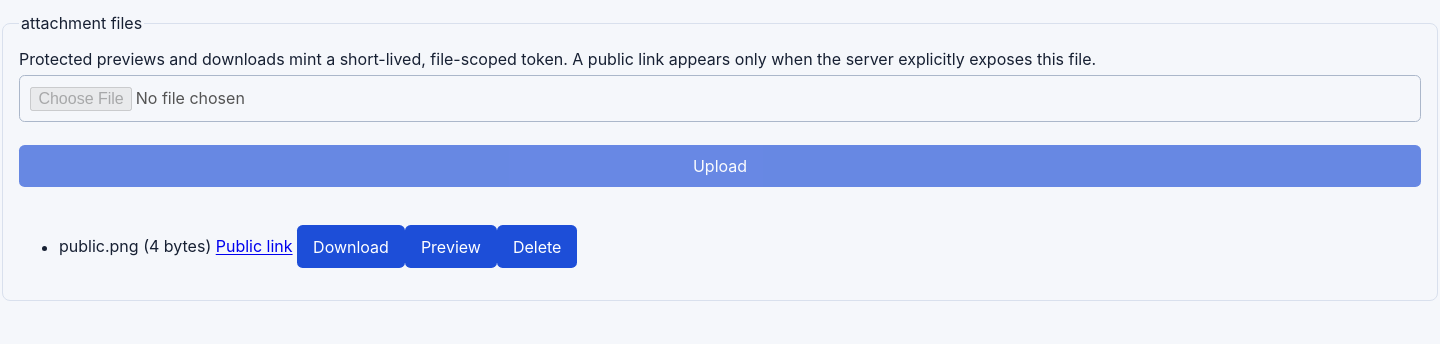
Test: file field › treats failed public downloads and previews as failures before creating object URLs
This screenshot has width=1440, height=344.
Click the button "Download" at (351, 246), box [297,225,405,268]
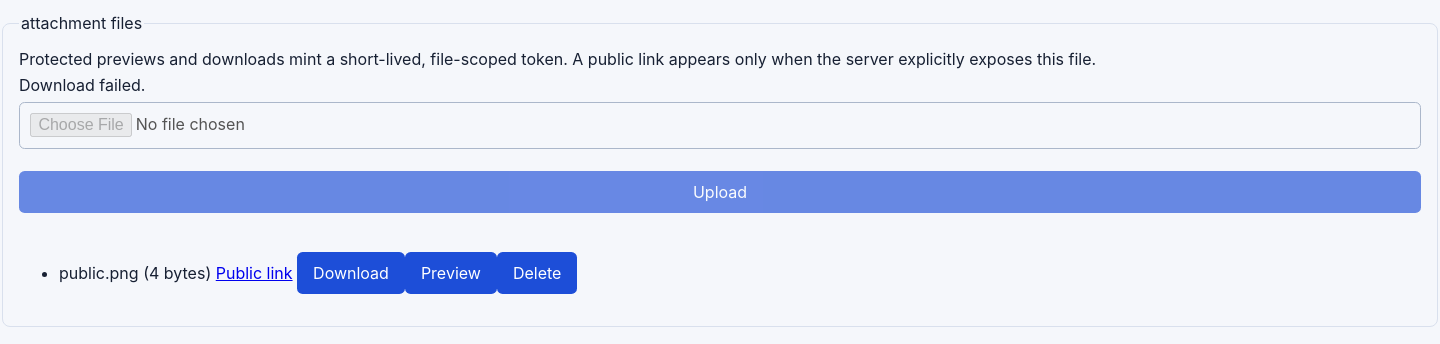
Expected: the message reads "Download failed.", [19,75,146,95]
Click the button "Preview" at (451, 273), box [405,252,497,294]
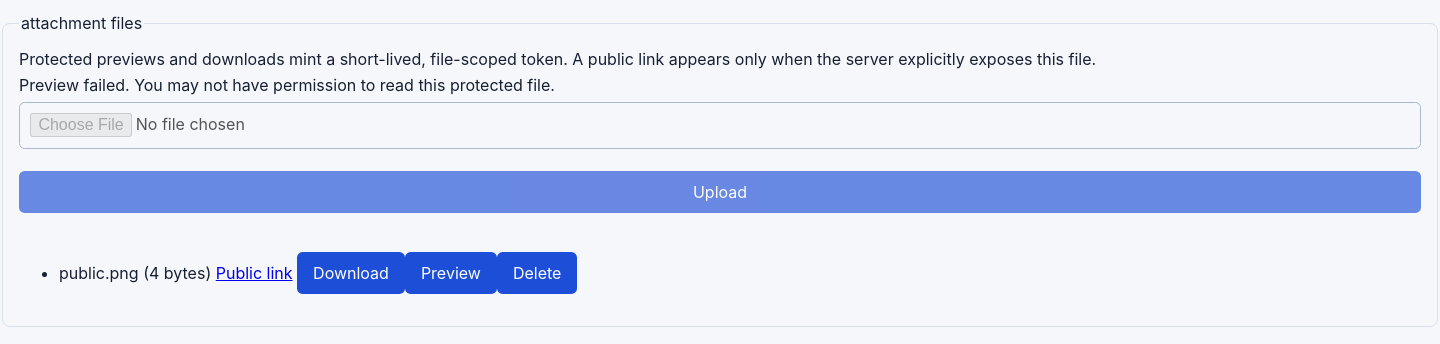
Expected: the text "Preview failed. You may not have permission to read this protected file." is shown, [19,75,555,95]
